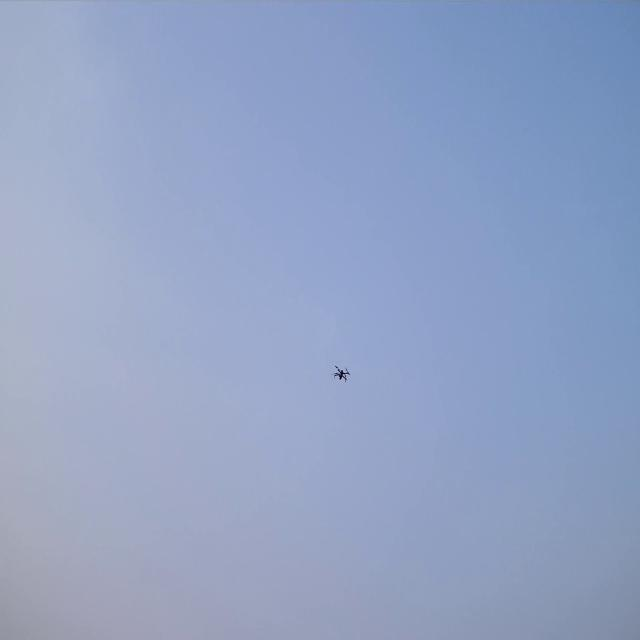UAV: (331, 365, 351, 383)
